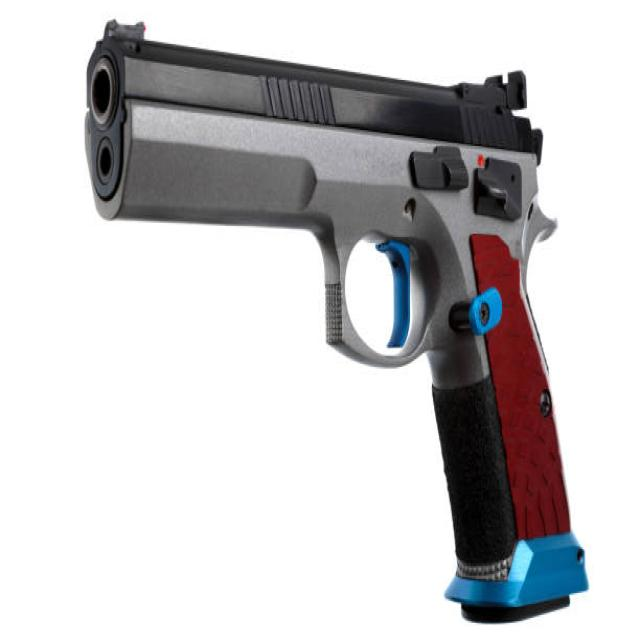pistol: (77, 13, 593, 630)
